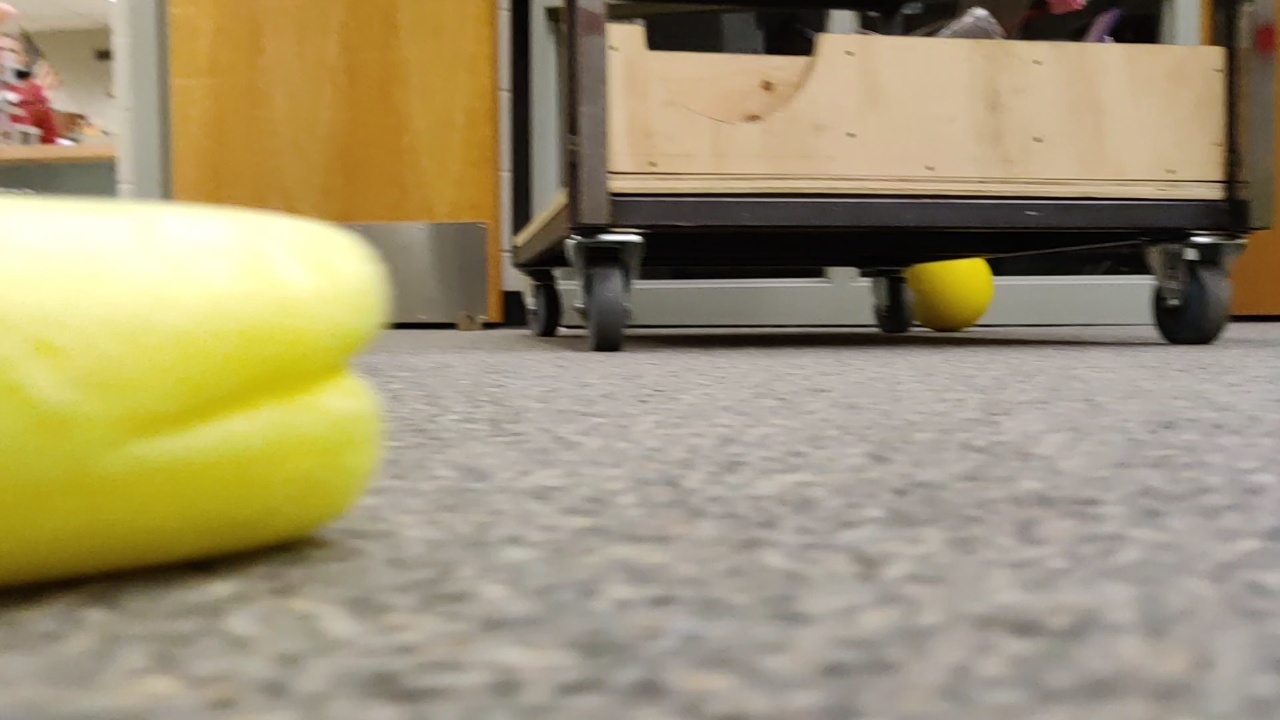Ball: (911, 264, 995, 331)
